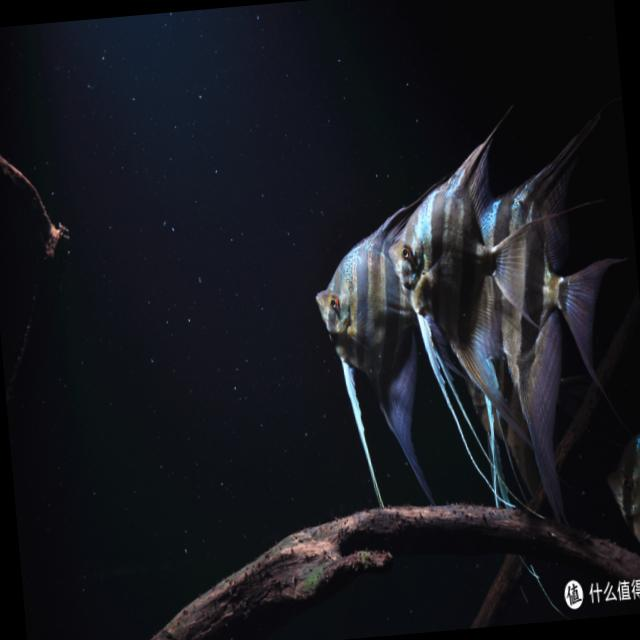AngelFish: (388, 105, 566, 502), (484, 122, 633, 524), (306, 204, 448, 527)
